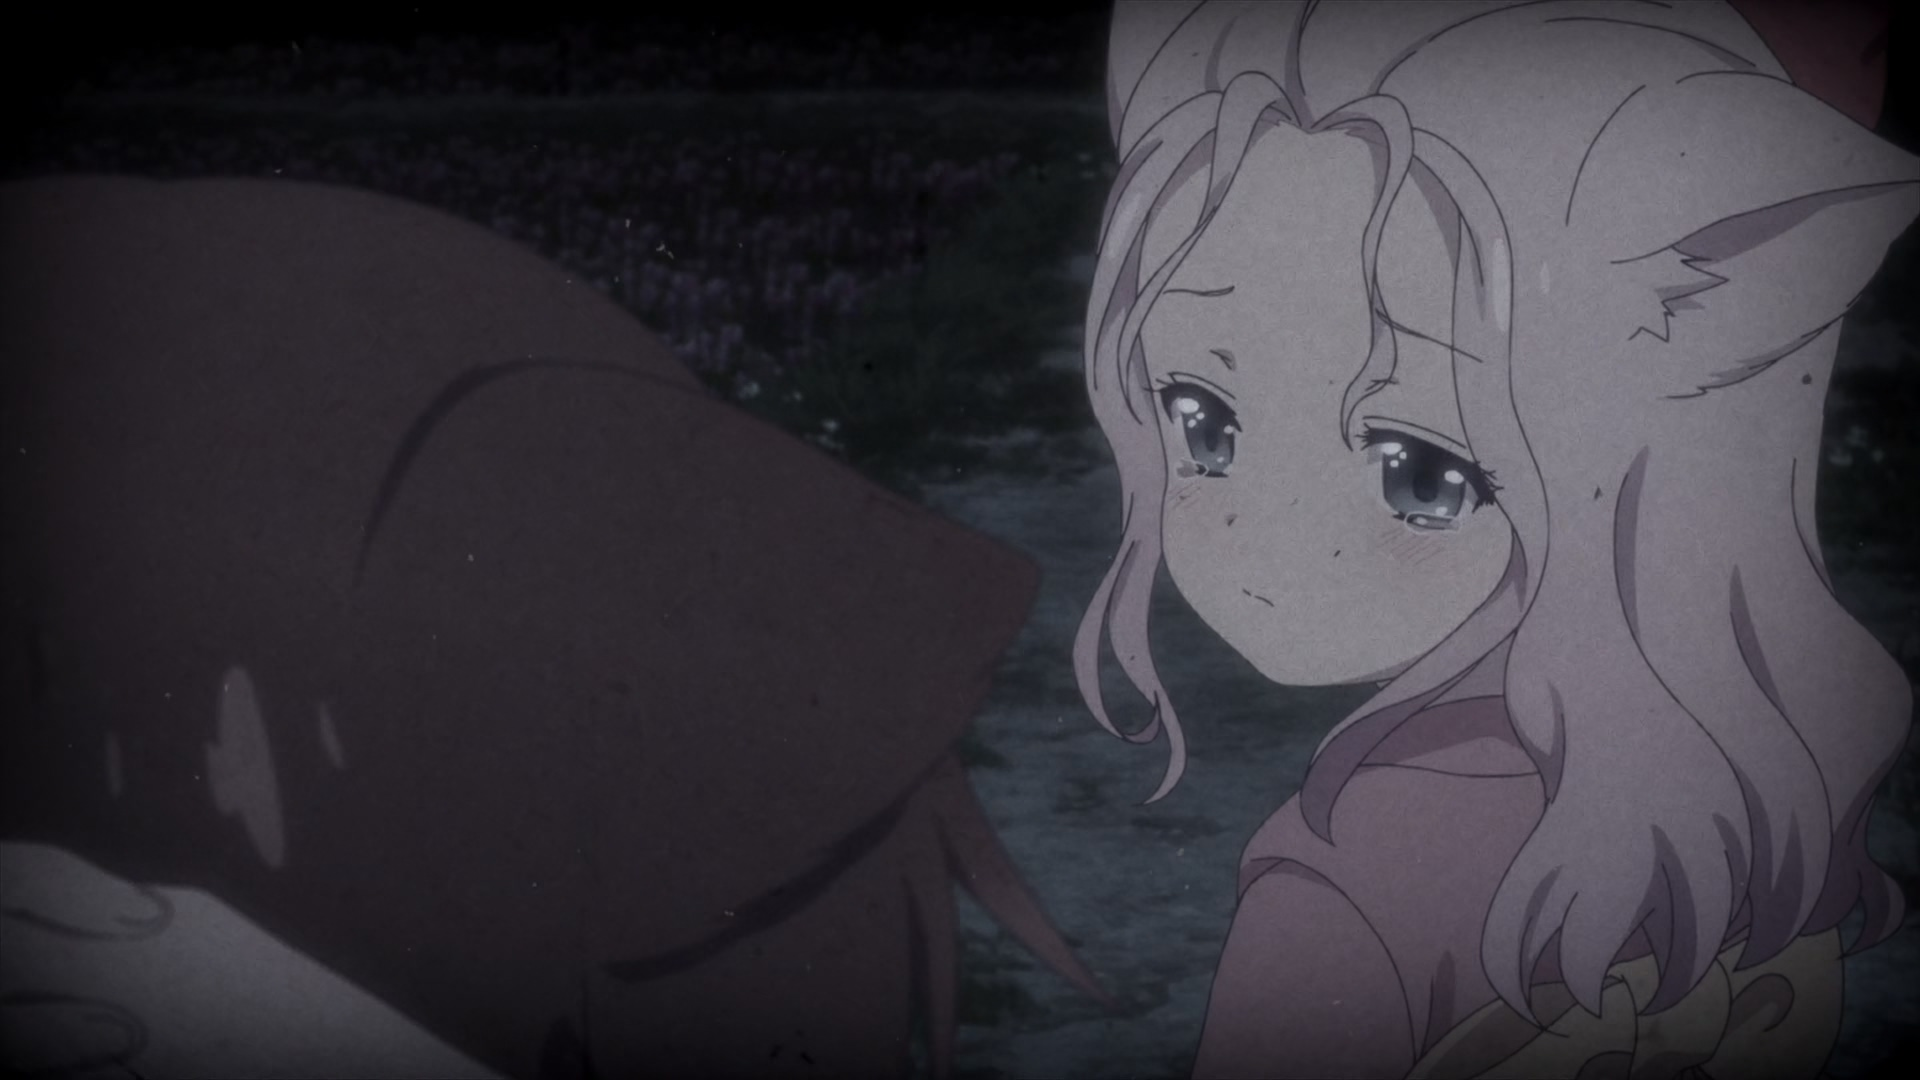莲: (1073, 1, 1920, 1080)
